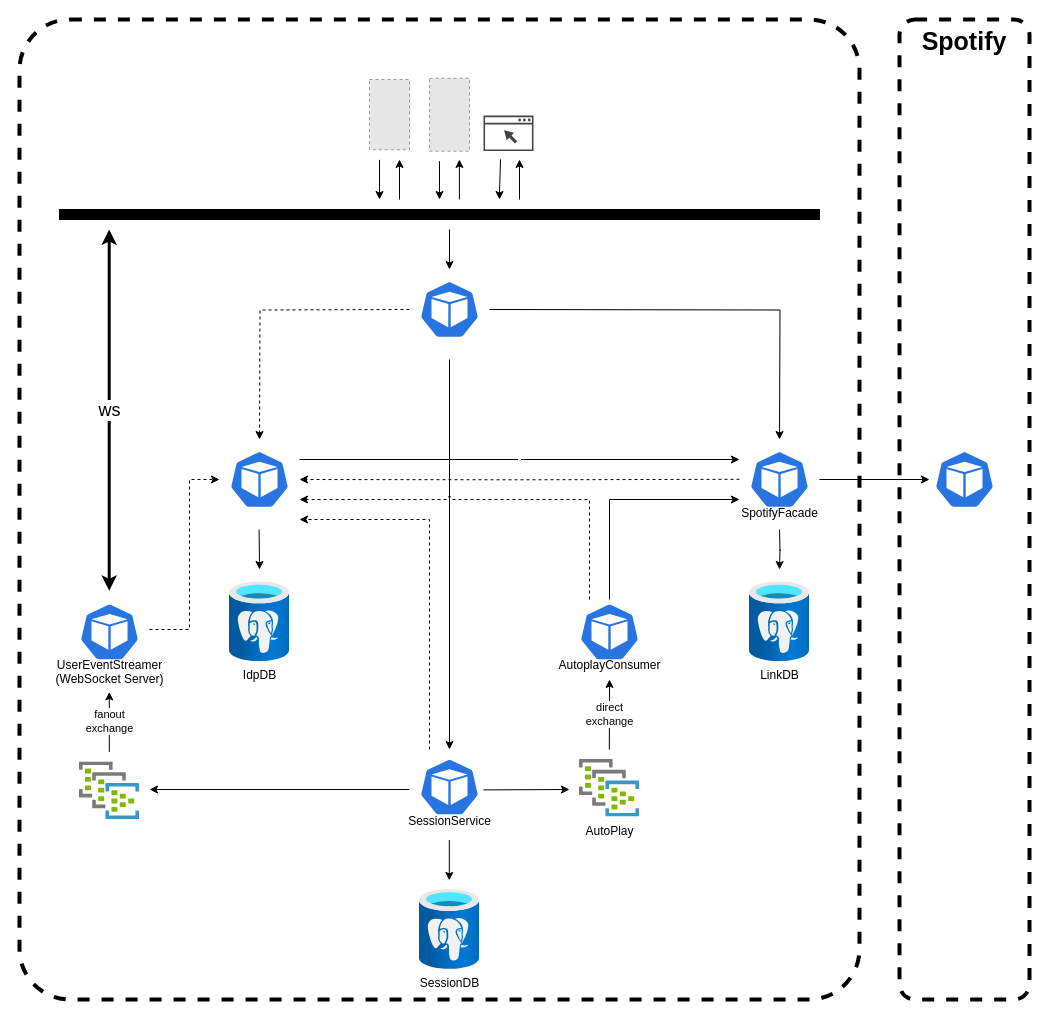
This 1048x1018 diagram has some shape labels left out. Grey dashed boxes stand in for pictures. Here are the shapes that lost their labels. From the top down, the box of each, then its label:
(418, 278, 480, 340): QueueMusicFacade
(228, 448, 290, 510): IdpService
(934, 448, 994, 510): Spotify API
(79, 761, 139, 819): UserEventStream
